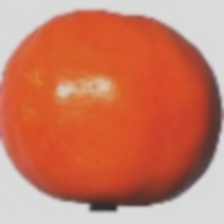tangerine: (45, 38, 197, 224)
